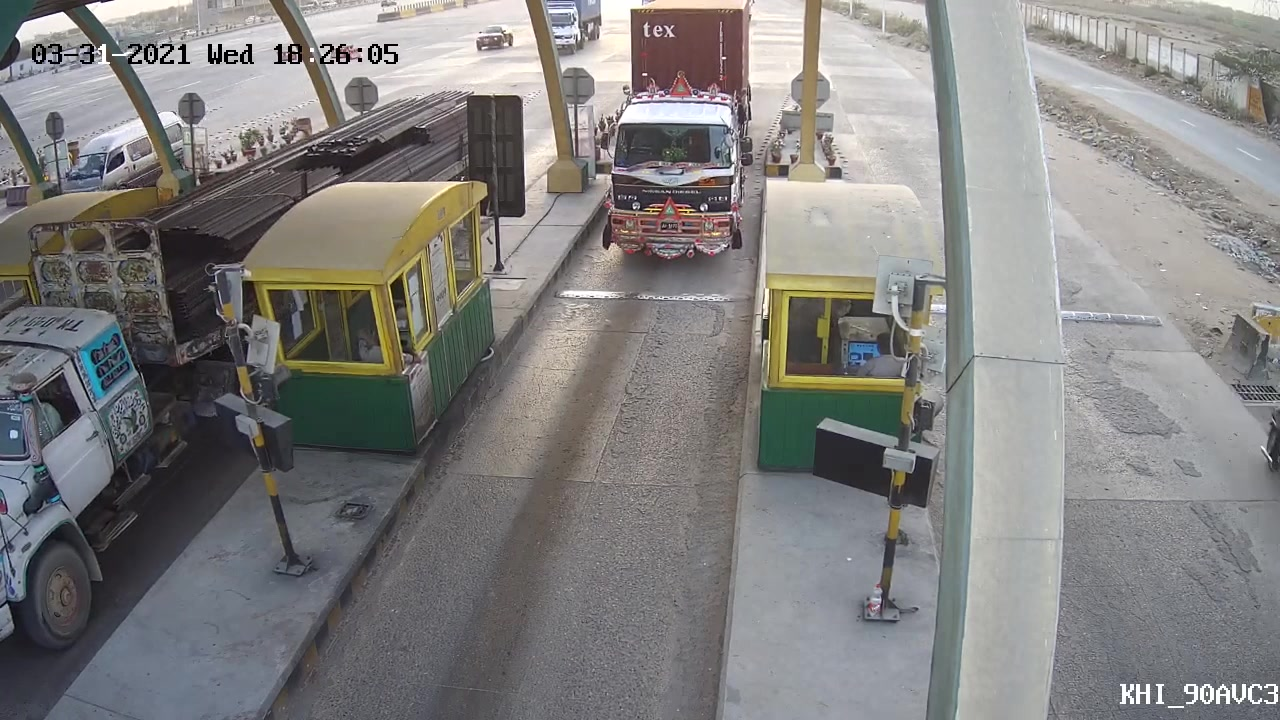F6: (586, 1, 766, 267)
